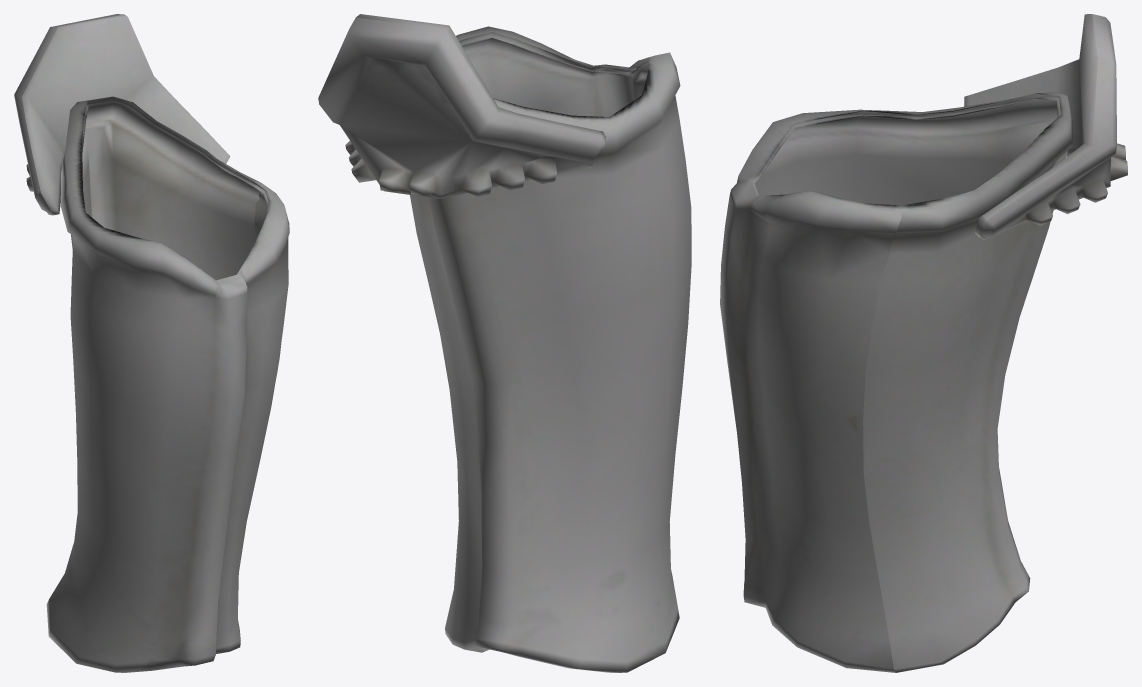
The model's file is Stormtrooper_LowerLegL.fbx.
3 views of the same model, side by side, from view 1: azimuth 30°, elevation 25°; view 2: azimuth 150°, elevation 25°; view 3: azimuth 270°, elevation 25° (orthographic). The views are drawn at different scales.
Parts seen in each view (by area): view 1: LowerLegL; view 2: LowerLegL; view 3: LowerLegL.
Boxes of the visible parts, left/top/right/bottom form: LowerLegL: left=14, top=14, right=289, bottom=672; LowerLegL: left=318, top=14, right=691, bottom=672; LowerLegL: left=720, top=14, right=1127, bottom=672.
Size of the model in its own units: 0.1981 by 0.5147 by 0.3062.
